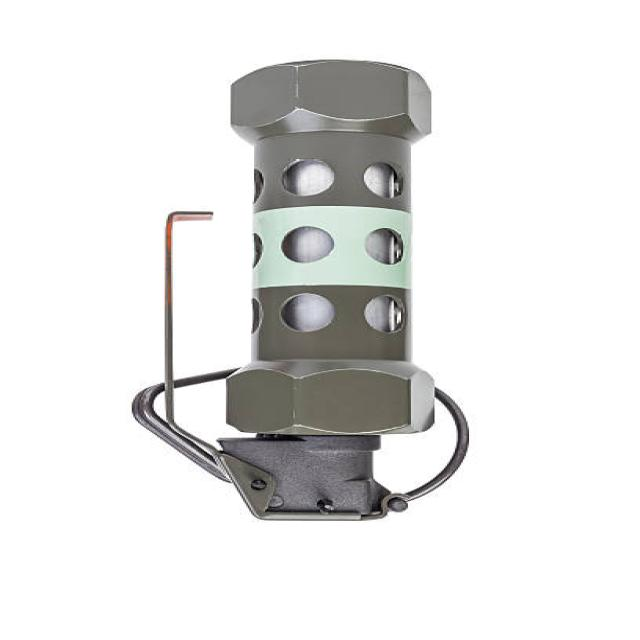grenade: (128, 54, 477, 532)
